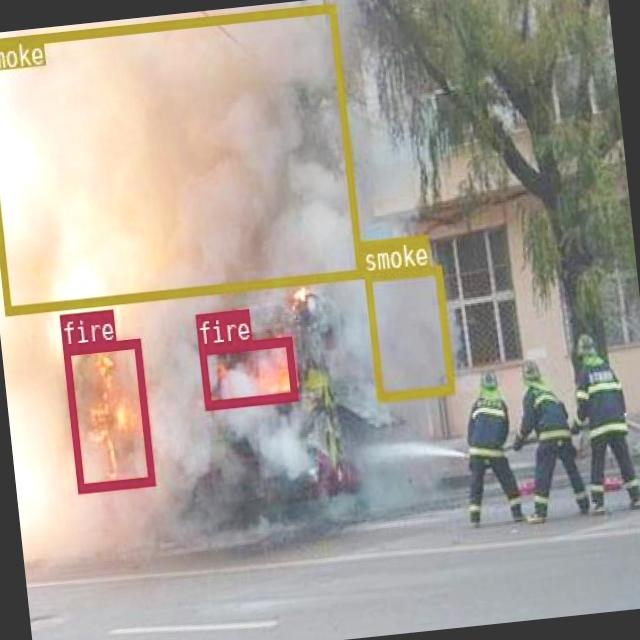fire: (62, 338, 154, 491), (197, 336, 297, 408)
smoke: (0, 2, 361, 313), (362, 264, 452, 401)
